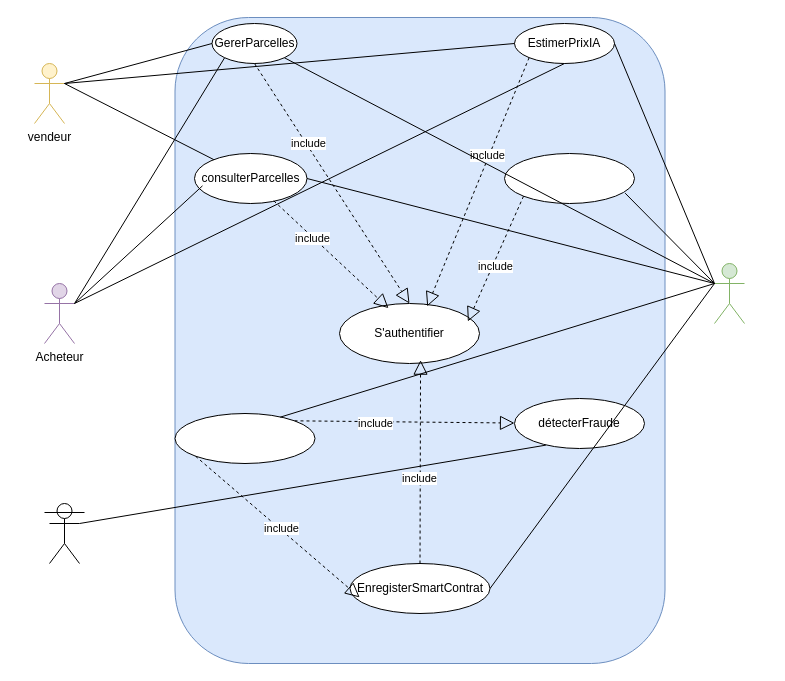
This 785x681 diagram has some shape labels left out. Here are the shapes that lost their labels. From the top down, the centre of each, then its label:
At pixel 569 178: "GérerTransactions".
At pixel 729 293: "Administrateur".
At pixel 244 438: "ValiderTansaction".
At pixel 64 533: "AlgorithmeFraude".
